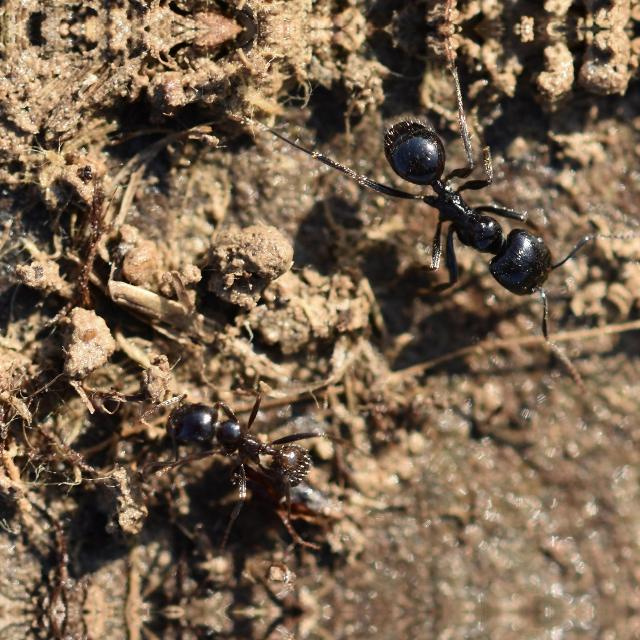Messor: (367, 88, 563, 324), (152, 376, 318, 514)
